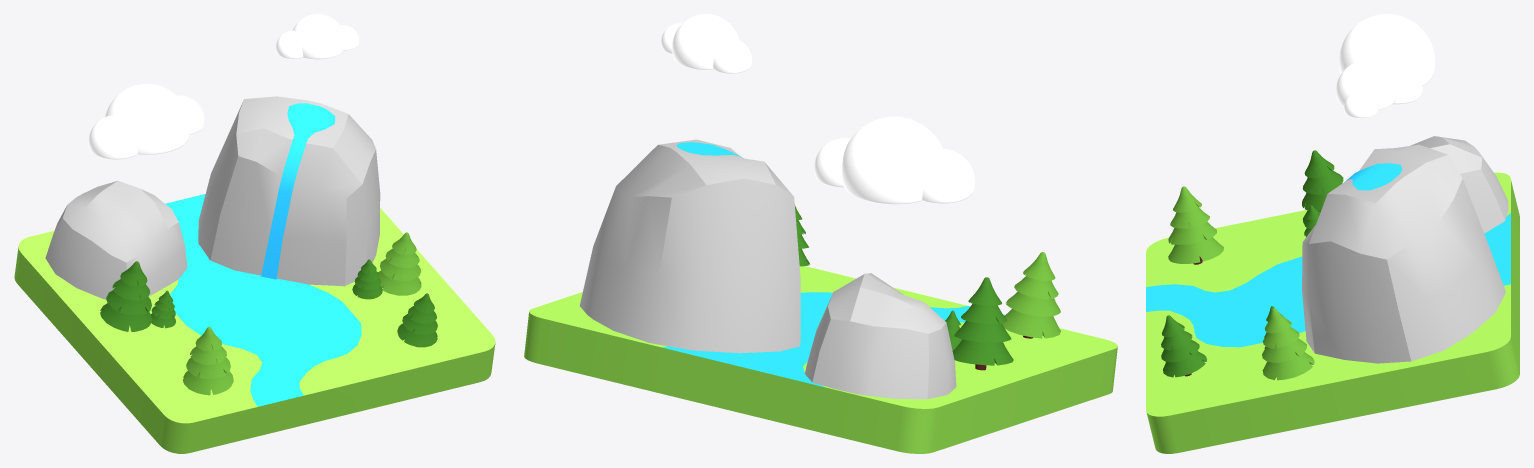
Rendered from national_park.glb.
3 views of the same model, side by side, from view 1: azimuth 30°, elevation 25°; view 2: azimuth 150°, elevation 25°; view 3: azimuth 270°, elevation 25° (orthographic). The views are drawn at different scales.
Parts seen in each view (by area): view 1: Plane.225; view 2: Plane.225; view 3: Plane.225.
Boxes of the visible parts, x1,y1,x2,y2 form: Plane.225: (14, 14, 495, 453); Plane.225: (524, 14, 1117, 453); Plane.225: (1146, 14, 1519, 453).
Bounding box in the file's own units: 1.95 × 1.77 × 1.73.
1 material, 1 textured.
